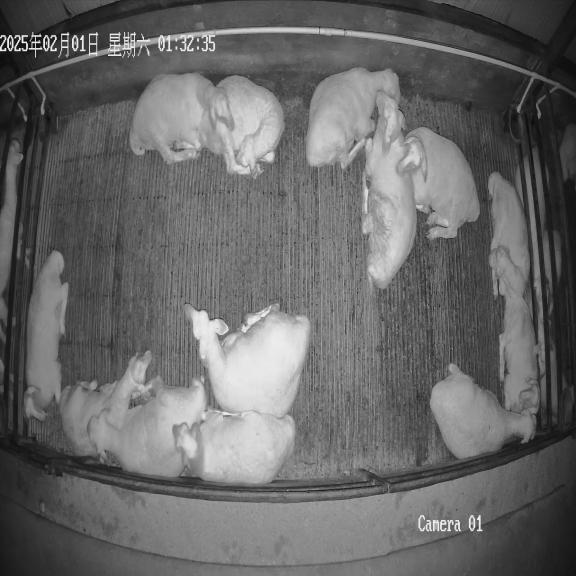lying: (185, 304, 310, 418), (88, 376, 207, 477), (362, 90, 416, 289), (430, 364, 536, 459), (59, 351, 152, 458), (305, 68, 400, 169), (129, 73, 233, 164), (398, 127, 480, 240), (173, 411, 295, 484), (204, 75, 284, 178), (23, 250, 69, 421), (488, 172, 530, 298), (500, 289, 538, 412)
